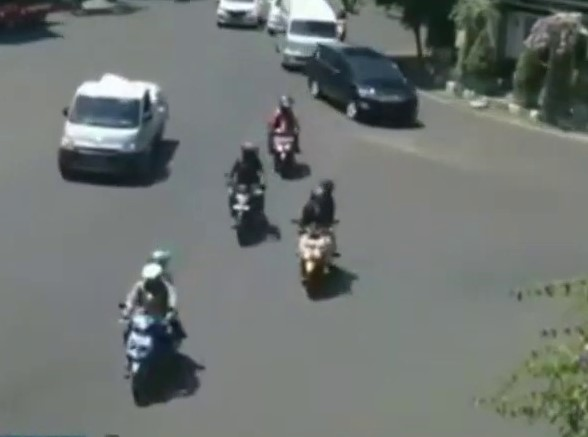car: (60, 73, 168, 186), (310, 40, 420, 133), (278, 1, 339, 74)
motorbike: (115, 244, 195, 408), (296, 179, 342, 303), (226, 141, 266, 251), (269, 95, 301, 183)
